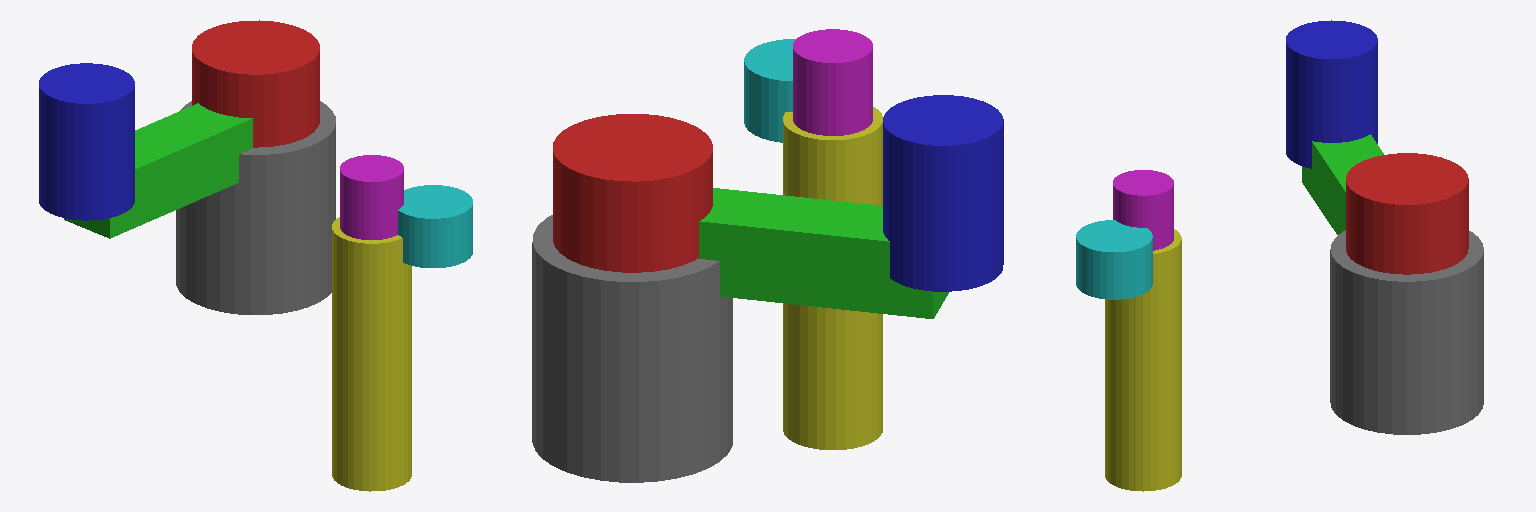
URDF robot description (PAROL6_DH):
<?xml version="1.0"?>
<!--
PAROL6_DH.urdf - DH-aligned URDF for PAROL6 robot
Generated to match DHRobot kinematics exactly.

This URDF uses Modified DH convention joint frames to ensure FK/IK
results match the backend DHRobot model in robot_model.py.

DH Parameters:
  Joint 1: d=0.11050, a=0.02342, alpha=-π/2, offset=0
  Joint 2: d=0.00000, a=0.18000, alpha=π,    offset=0
  Joint 3: d=0.00000, a=-0.04350, alpha=π/2,  offset=0
  Joint 4: d=-0.17635, a=0.00000, alpha=-π/2, offset=0
  Joint 5: d=0.00000, a=0.00000, alpha=π/2,  offset=0
  Joint 6: d=-0.03400, a=0.00000, alpha=π,    offset=π/2

TCP: J6 flange (34mm from J5/J6 intersection)
-->
<robot name="PAROL6_DH">

  <!-- World link (reference frame) -->
  <link name="world"/>

  <!-- Base link (robot mounting point) -->
  <link name="base_link">
    <visual>
      <geometry>
        <cylinder length="0.11" radius="0.05"/>
      </geometry>
      <origin xyz="0 0 0.055" rpy="0 0 0"/>
      <material name="gray">
        <color rgba="0.5 0.5 0.5 1.0"/>
      </material>
    </visual>
  </link>

  <!-- Fixed joint: world to base_link -->
  <joint name="base_joint" type="fixed">
    <parent link="world"/>
    <child link="base_link"/>
    <origin xyz="0.0 0.0 0.0" rpy="0.0 0.0 0.0"/>
  </joint>

  <!-- Link 1 (J1 rotation) -->
  <link name="link1">
    <visual>
      <geometry>
        <cylinder length="0.05" radius="0.04"/>
      </geometry>
      <origin xyz="0 0 0.025" rpy="0 0 0"/>
      <material name="red">
        <color rgba="0.8 0.2 0.2 1.0"/>
      </material>
    </visual>
  </link>

  <!-- Joint 1: base_link to link1 -->
  <joint name="joint1" type="revolute">
    <parent link="base_link"/>
    <child link="link1"/>
    <origin xyz="0.0 0.0 0.1105" rpy="0.0 0.0 0.0"/>
    <axis xyz="0 0 1"/>
    <limit lower="-2.14761" upper="2.14761" effort="100" velocity="2.0"/>
  </joint>

  <!-- Link 2 (J2 rotation) -->
  <link name="link2">
    <visual>
      <geometry>
        <box size="0.18 0.04 0.04"/>
      </geometry>
      <origin xyz="0.09 0 0" rpy="0 0 0"/>
      <material name="green">
        <color rgba="0.2 0.8 0.2 1.0"/>
      </material>
    </visual>
  </link>

  <!-- Joint 2: link1 to link2 -->
  <joint name="joint2" type="revolute">
    <parent link="link1"/>
    <child link="link2"/>
    <origin xyz="0.02342 0.0 0.0" rpy="0.0 0.0 -1.5708"/>
    <axis xyz="0 0 1"/>
    <limit lower="-2.53073" upper="-0.05890" effort="100" velocity="2.0"/>
  </joint>

  <!-- Link 3 (J3 rotation) -->
  <link name="link3">
    <visual>
      <geometry>
        <cylinder length="0.08" radius="0.03"/>
      </geometry>
      <origin xyz="0 0 0.04" rpy="0 0 0"/>
      <material name="blue">
        <color rgba="0.2 0.2 0.8 1.0"/>
      </material>
    </visual>
  </link>

  <!-- Joint 3: link2 to link3 -->
  <joint name="joint3" type="revolute">
    <parent link="link2"/>
    <child link="link3"/>
    <origin xyz="0.18 0.0 0.0" rpy="0.0 0.0 3.14159"/>
    <axis xyz="0 0 1"/>
    <limit lower="1.88270" upper="5.02486" effort="100" velocity="2.0"/>
  </joint>

  <!-- Link 4 (J4 rotation) -->
  <link name="link4">
    <visual>
      <geometry>
        <cylinder length="0.17" radius="0.025"/>
      </geometry>
      <origin xyz="0 0 -0.085" rpy="0 0 0"/>
      <material name="yellow">
        <color rgba="0.8 0.8 0.2 1.0"/>
      </material>
    </visual>
  </link>

  <!-- Joint 4: link3 to link4 -->
  <joint name="joint4" type="revolute">
    <parent link="link3"/>
    <child link="link4"/>
    <origin xyz="-0.0435 0.17635 0.0" rpy="0.0 0.0 1.5708"/>
    <axis xyz="0 0 1"/>
    <limit lower="-1.84041" upper="1.84041" effort="100" velocity="2.0"/>
  </joint>

  <!-- Link 5 (J5 rotation) -->
  <link name="link5">
    <visual>
      <geometry>
        <cylinder length="0.04" radius="0.02"/>
      </geometry>
      <origin xyz="0 0 0.02" rpy="0 0 0"/>
      <material name="magenta">
        <color rgba="0.8 0.2 0.8 1.0"/>
      </material>
    </visual>
  </link>

  <!-- Joint 5: link4 to link5 -->
  <joint name="joint5" type="revolute">
    <parent link="link4"/>
    <child link="link5"/>
    <origin xyz="0.0 0.0 0.0" rpy="0.0 0.0 -1.5708"/>
    <axis xyz="0 0 1"/>
    <limit lower="-1.57080" upper="1.57080" effort="100" velocity="2.0"/>
  </joint>

  <!-- Link 6 (J6 rotation / TCP flange) -->
  <link name="link6">
    <visual>
      <geometry>
        <cylinder length="0.034" radius="0.025"/>
      </geometry>
      <origin xyz="0 0.017 0" rpy="0 0 0"/>
      <material name="cyan">
        <color rgba="0.2 0.8 0.8 1.0"/>
      </material>
    </visual>
  </link>

  <!-- Joint 6: link5 to link6 -->
  <joint name="joint6" type="revolute">
    <parent link="link5"/>
    <child link="link6"/>
    <origin xyz="0.0 0.034 0.0" rpy="0.0 0.0 1.5708"/>
    <axis xyz="0 0 1"/>
    <limit lower="0.0" upper="6.28319" effort="100" velocity="2.0"/>
  </joint>

  <!-- TCP (Tool Center Point) - at J6 flange -->
  <link name="tcp"/>

  <joint name="tcp_joint" type="fixed">
    <parent link="link6"/>
    <child link="tcp"/>
    <origin xyz="0.0 0.0 0.0" rpy="0.0 0.0 0.0"/>
  </joint>

</robot>

--- What the picture shows (computed from the rendered views, not written in the file) ---
Views: 3 orthographic renders of the robot side by side, from view 1: azimuth 30°, elevation 25°; view 2: azimuth 150°, elevation 25°; view 3: azimuth 270°, elevation 25°.
Robot: PAROL6_DH — 9 links, 8 joints (6 revolute, 2 fixed); root link world; default pose: joints at zero except 2 at the middle of their limits (joint2 = -1.29, joint3 = 3.45).
Links seen in each view (by area): view 1: base_link, link4, link3, link1, link2, link6, link5; view 2: base_link, link1, link3, link4, link2, link5, link6; view 3: base_link, link4, link1, link3, link6, link5, link2.
Link boxes in pixels (box(x1,y1,x2,y2)): base_link: box(176, 101, 335, 314); link4: box(332, 217, 411, 491); link3: box(39, 63, 134, 220); link1: box(192, 20, 319, 147); link2: box(64, 103, 252, 238); link6: box(398, 185, 472, 267); link5: box(340, 155, 403, 239); base_link: box(532, 215, 732, 482); link1: box(553, 114, 712, 272); link3: box(883, 95, 1003, 291); link4: box(783, 107, 882, 449); link2: box(698, 188, 948, 318); link5: box(793, 29, 872, 135); link6: box(744, 39, 795, 142); base_link: box(1330, 230, 1483, 434); link4: box(1105, 229, 1181, 491); link1: box(1346, 153, 1468, 274); link3: box(1286, 20, 1377, 168); link6: box(1076, 220, 1152, 299); link5: box(1113, 170, 1173, 250); link2: box(1302, 134, 1383, 234).
Size in the robot's own frame: 0.2298 by 0.2655 by 0.25 metres.
Geometry: primitives only (box / cylinder / sphere), no mesh files.